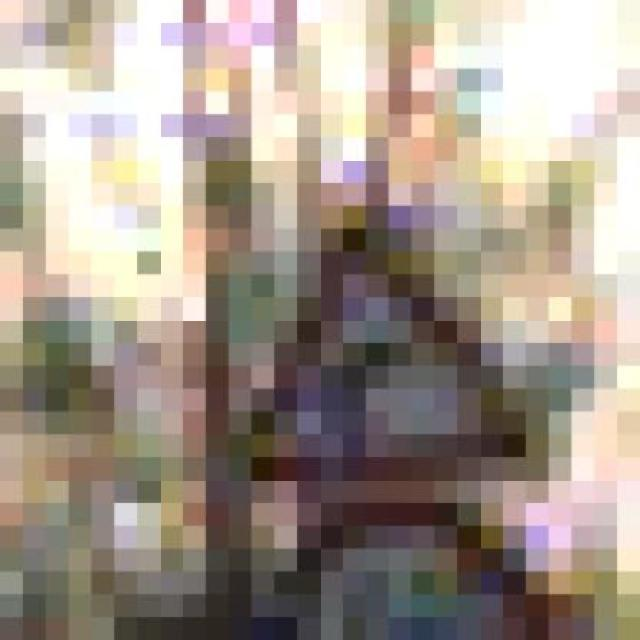Dangerous Rright Curve Ahead: (183, 183, 572, 503)
